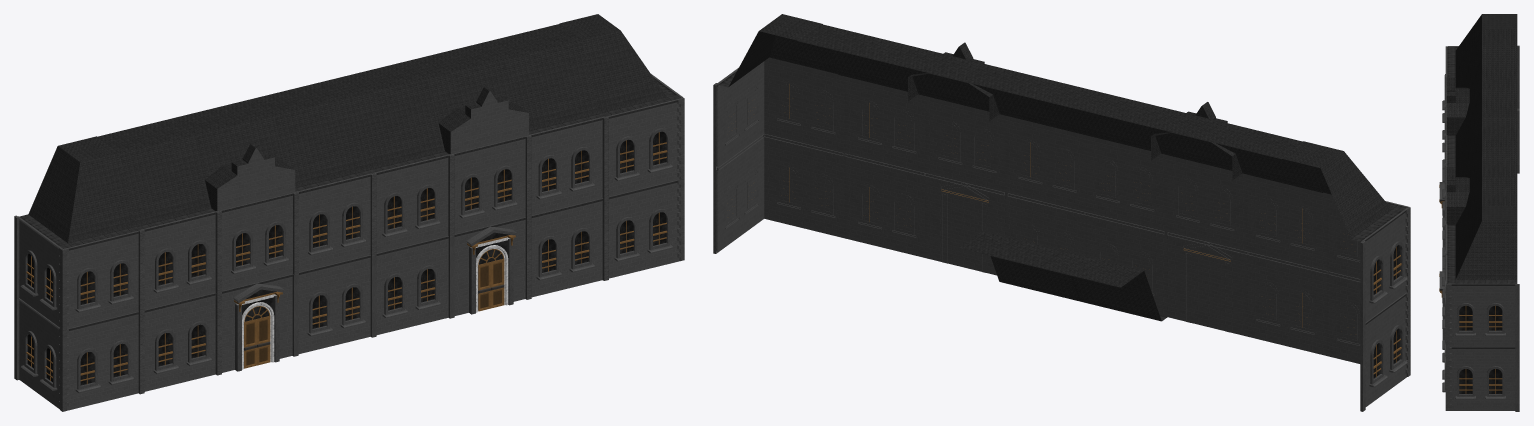
File: Mansion.001_House.003c.fbx
The picture shows the model from 3 angles, left to right: view 1: azimuth 30°, elevation 25°; view 2: azimuth 150°, elevation 25°; view 3: azimuth 270°, elevation 25°; orthographic projection. The views are drawn at different scales.
Parts seen in each view (by area): view 1: Mansion001_House_003; view 2: Mansion001_House_003; view 3: Mansion001_House_003.
Boxes of the visible parts, left/top/right/bottom form: Mansion001_House_003: left=14, top=14, right=684, bottom=411; Mansion001_House_003: left=713, top=14, right=1410, bottom=411; Mansion001_House_003: left=1439, top=14, right=1519, bottom=411.
Bounding box in the file's own units: 3225 × 1092 × 453.
